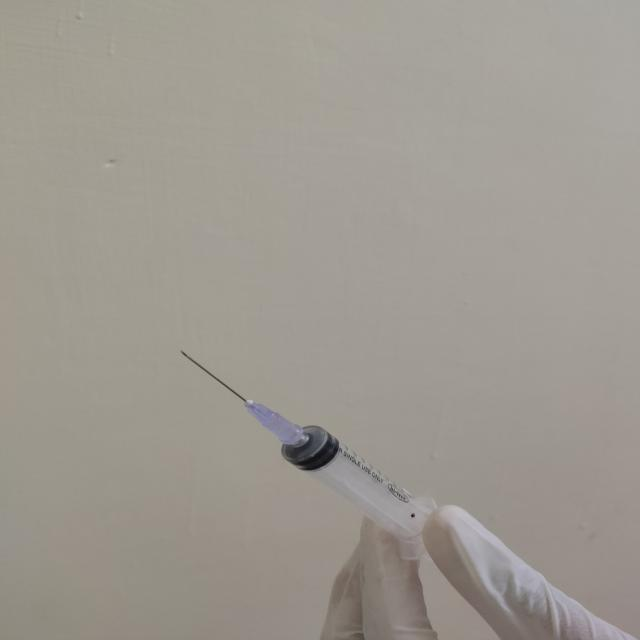B3: (170, 346, 450, 552), (184, 349, 346, 472), (280, 427, 442, 544)
